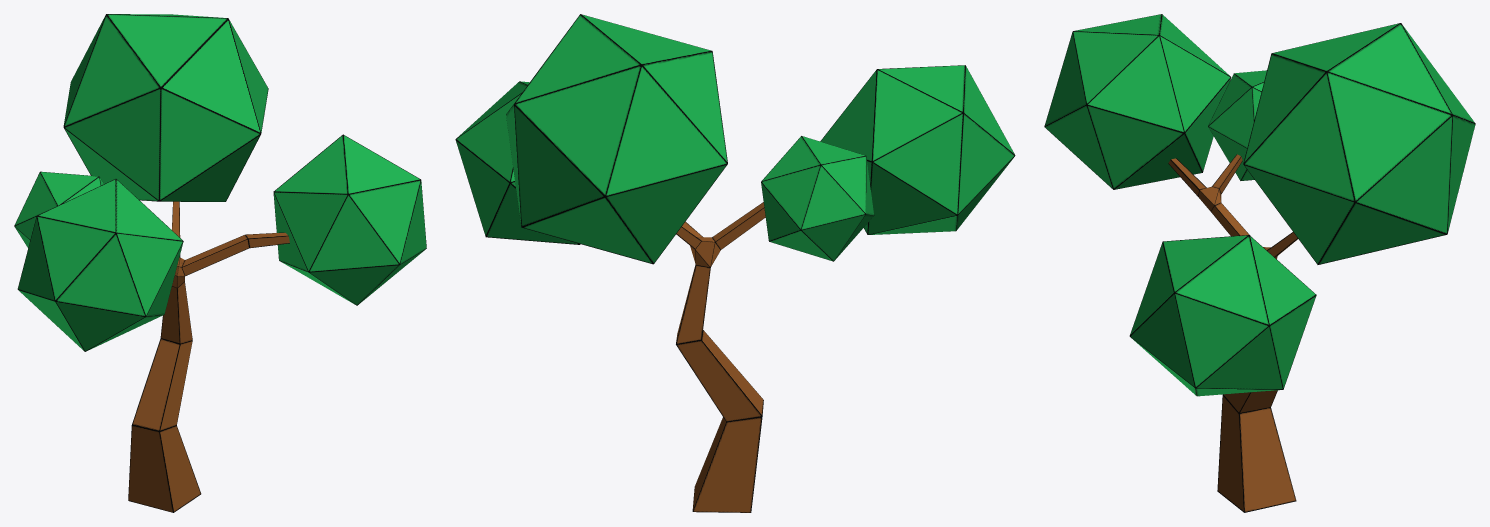
The model's file is tree2.fbx.
3 views of the same model, side by side, from view 1: azimuth 30°, elevation 25°; view 2: azimuth 150°, elevation 25°; view 3: azimuth 270°, elevation 25° (orthographic). The views are drawn at different scales.
Visible parts, largest first — view 1: Tree2; view 2: Tree2; view 3: Tree2.
Part boxes in pixels (bbox=[...]): Tree2: bbox=[14, 14, 426, 512]; Tree2: bbox=[455, 14, 1015, 512]; Tree2: bbox=[1044, 14, 1475, 512].
Bounding box in the file's own units: 435 × 430 × 352.
Materials: 1 (1 with a texture image).
